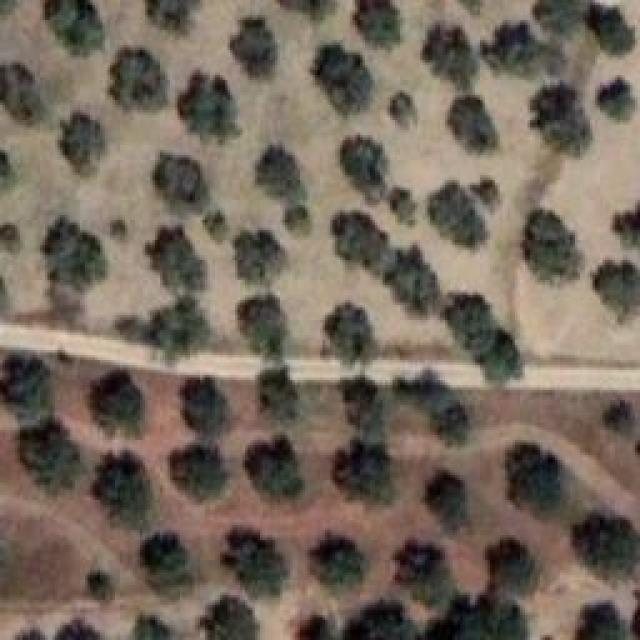Tree: (520, 205, 581, 288), (508, 438, 568, 522), (90, 450, 152, 531), (45, 220, 116, 289), (313, 35, 375, 114), (530, 80, 594, 156), (390, 535, 453, 612), (570, 510, 638, 579), (428, 593, 527, 640), (242, 432, 310, 500), (85, 370, 154, 437), (148, 222, 214, 290), (430, 182, 495, 250), (400, 375, 465, 443), (487, 17, 552, 82), (223, 527, 284, 595), (337, 438, 402, 501), (180, 72, 239, 141), (381, 245, 438, 314), (312, 533, 377, 593), (23, 420, 81, 487), (160, 446, 224, 504), (448, 90, 506, 154), (44, 0, 104, 60), (333, 208, 390, 271), (135, 298, 206, 348), (443, 287, 497, 352), (485, 535, 539, 600), (113, 47, 164, 113), (225, 18, 282, 76), (140, 532, 191, 596), (425, 472, 476, 536), (150, 153, 210, 207), (0, 57, 48, 121), (228, 230, 282, 286), (325, 300, 372, 364), (595, 255, 638, 324), (183, 375, 232, 435), (253, 143, 303, 201), (8, 358, 56, 418), (340, 138, 388, 198), (238, 295, 289, 350), (433, 25, 481, 83), (352, 598, 416, 640), (573, 598, 636, 640), (480, 330, 524, 388), (338, 378, 384, 433), (55, 115, 101, 167), (353, 0, 403, 47), (593, 0, 640, 50), (257, 368, 298, 423), (540, 0, 597, 37), (202, 597, 249, 640), (148, 0, 200, 33), (607, 392, 640, 442), (474, 165, 508, 213), (600, 77, 639, 118), (385, 182, 420, 226), (607, 200, 639, 244), (388, 87, 424, 126), (50, 617, 105, 640), (292, 607, 329, 640), (283, 0, 343, 19), (133, 605, 166, 639), (200, 208, 232, 243), (0, 150, 20, 202), (285, 208, 313, 240), (0, 220, 24, 255), (15, 623, 49, 640), (88, 568, 111, 593)
